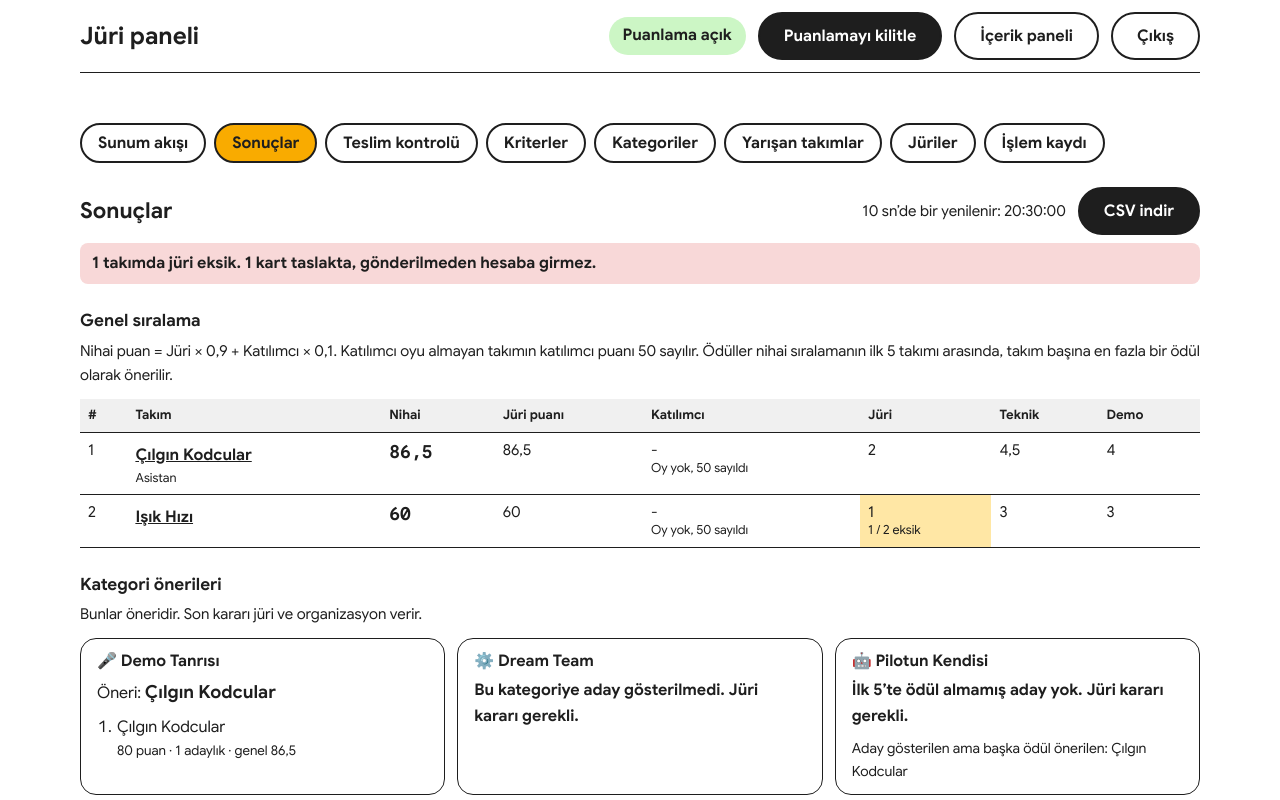
işlem kaydı › ADMIN kaydı kişi, işlem ve gerekçeyle görür
The image size is (1280, 800).
expect the button "Puanlamayı kilitle" is shown: met, box x1=758 y1=12 x2=942 y2=60
What coordinates should you click on to do the following:
click the button "İşlem kaydı"
I would click on:
 (1044, 143)
Its box is x1=984 y1=123 x2=1104 y2=163.
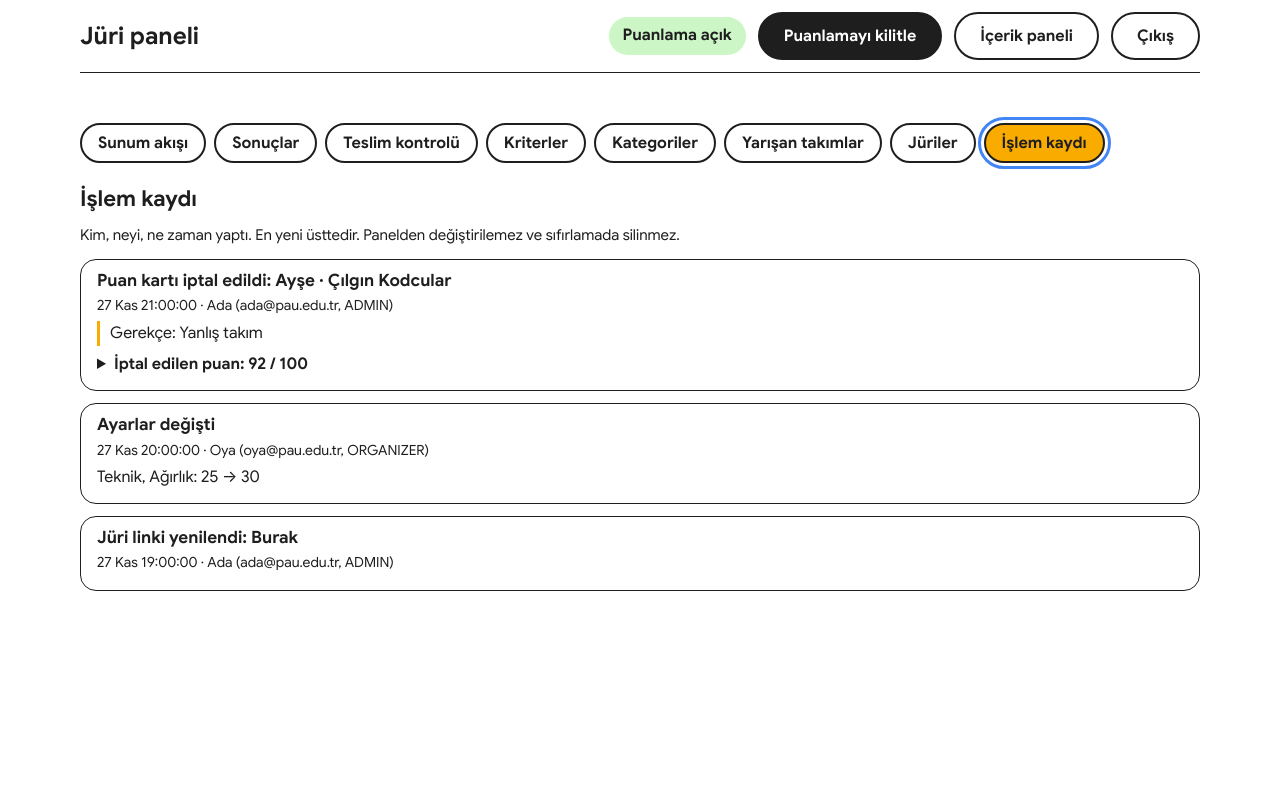
expect the element that starts with "Puan kartı iptal edildi" is shown: met, box x1=97 y1=270 x2=266 y2=291
expect the element that starts with "Puan kartı iptal edildi" shows "Ayşe · Çılgın Kodcular": met, box x1=266 y1=270 x2=451 y2=291
expect the element that starts with "Puan kartı iptal edildi" shows "Gerekçe: Yanlış takım": met, box x1=110 y1=323 x2=263 y2=343
